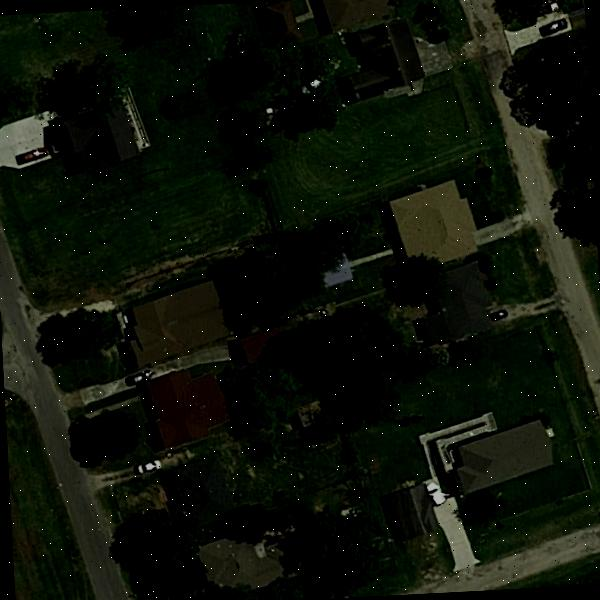Buildings: (117, 273, 218, 365), (446, 416, 554, 488), (396, 182, 484, 256), (352, 27, 418, 99), (168, 446, 235, 516), (150, 378, 218, 446), (65, 104, 140, 163), (428, 269, 490, 340), (316, 0, 421, 34), (206, 543, 280, 588), (389, 494, 430, 538), (268, 5, 300, 48), (237, 332, 271, 357)
